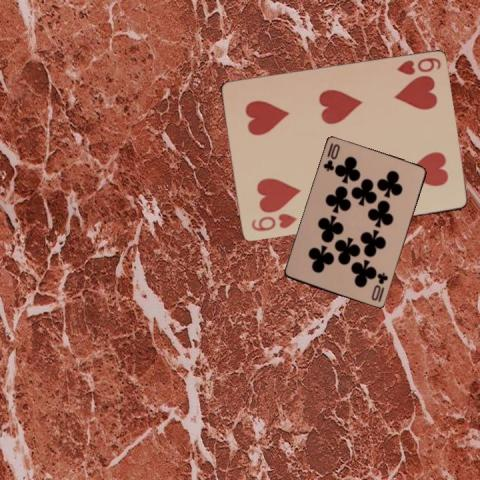10c: (369, 270, 389, 303), (321, 140, 341, 173)
6h: (248, 211, 298, 233), (393, 54, 442, 76)
